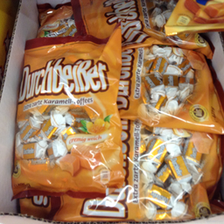candy: (21, 38, 123, 195), (123, 121, 223, 219), (128, 47, 215, 127)
